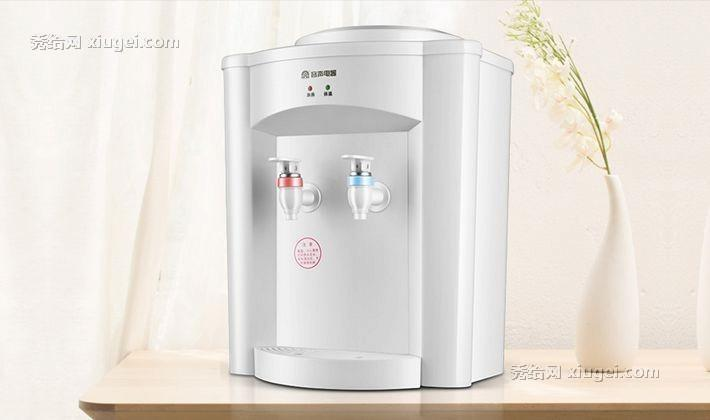Dispenser: (222, 25, 512, 389)
